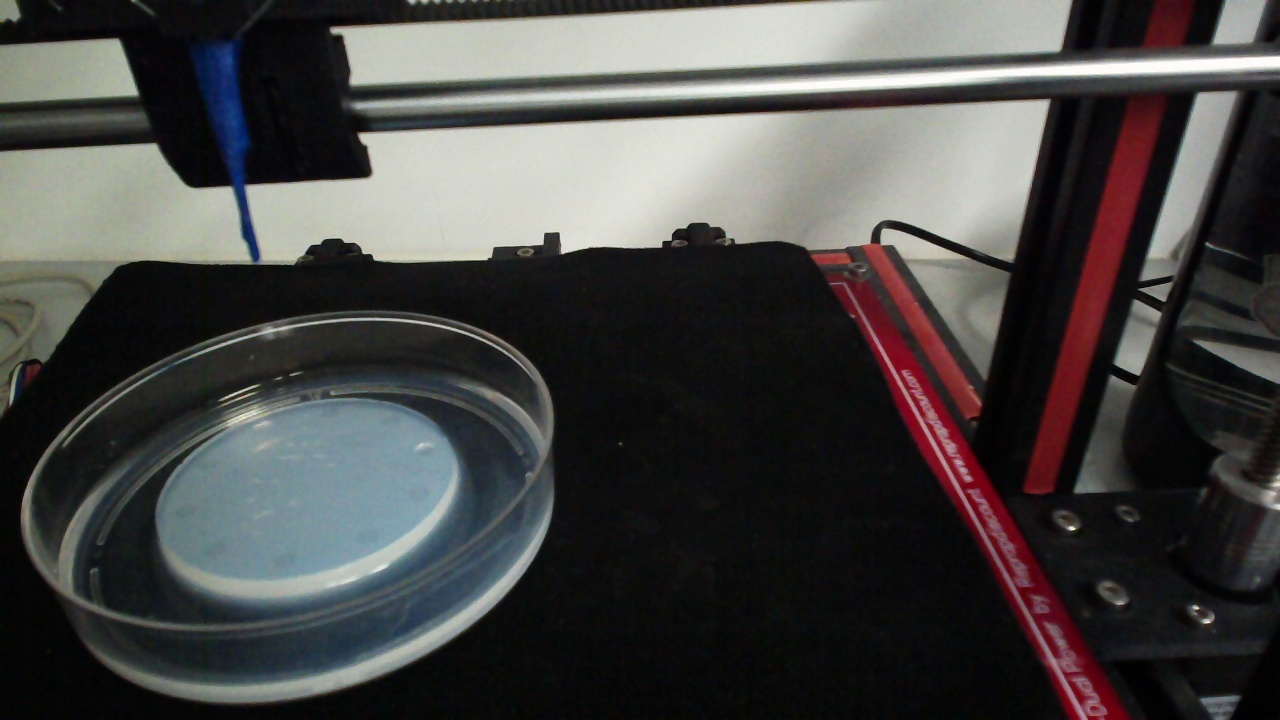groove: (250, 419, 278, 442), (200, 538, 226, 562), (269, 551, 297, 571), (406, 482, 430, 505), (354, 527, 380, 548), (173, 500, 199, 521), (193, 454, 220, 474), (411, 440, 435, 460), (378, 411, 402, 430), (317, 401, 342, 419)
needle: (192, 51, 260, 261)
